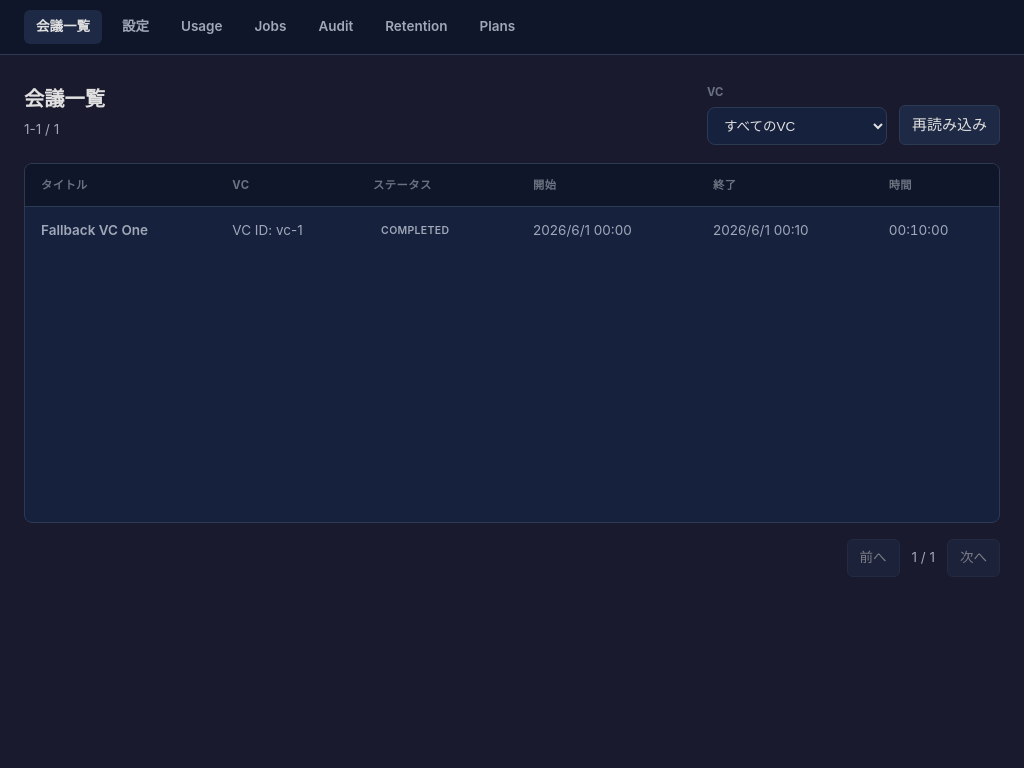
it: App access controls › keeps VC filtering on the current-guild fallback meetings route
expect the link "Fallback VC One" is shown: met, box [41,222,148,238]
Select "VC ID: vc-2" in the dropdown labelled "VC" at (797, 126), box [707,107,887,145]
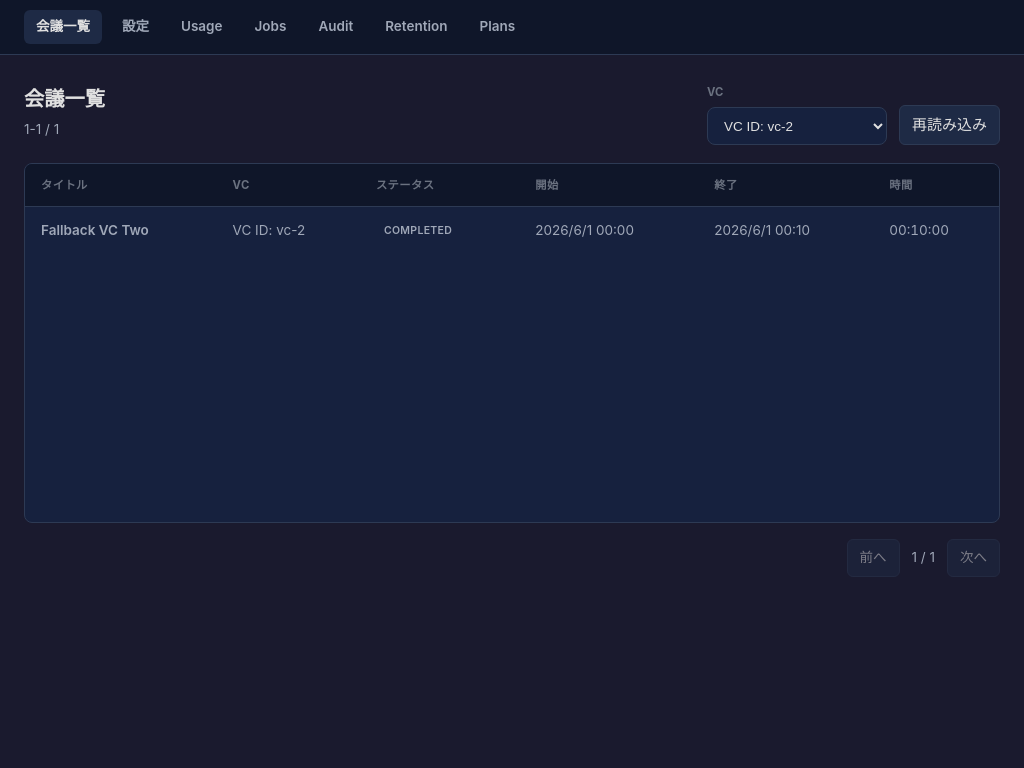
expect the link "Fallback VC Two" is shown: met, box [41,222,149,238]
